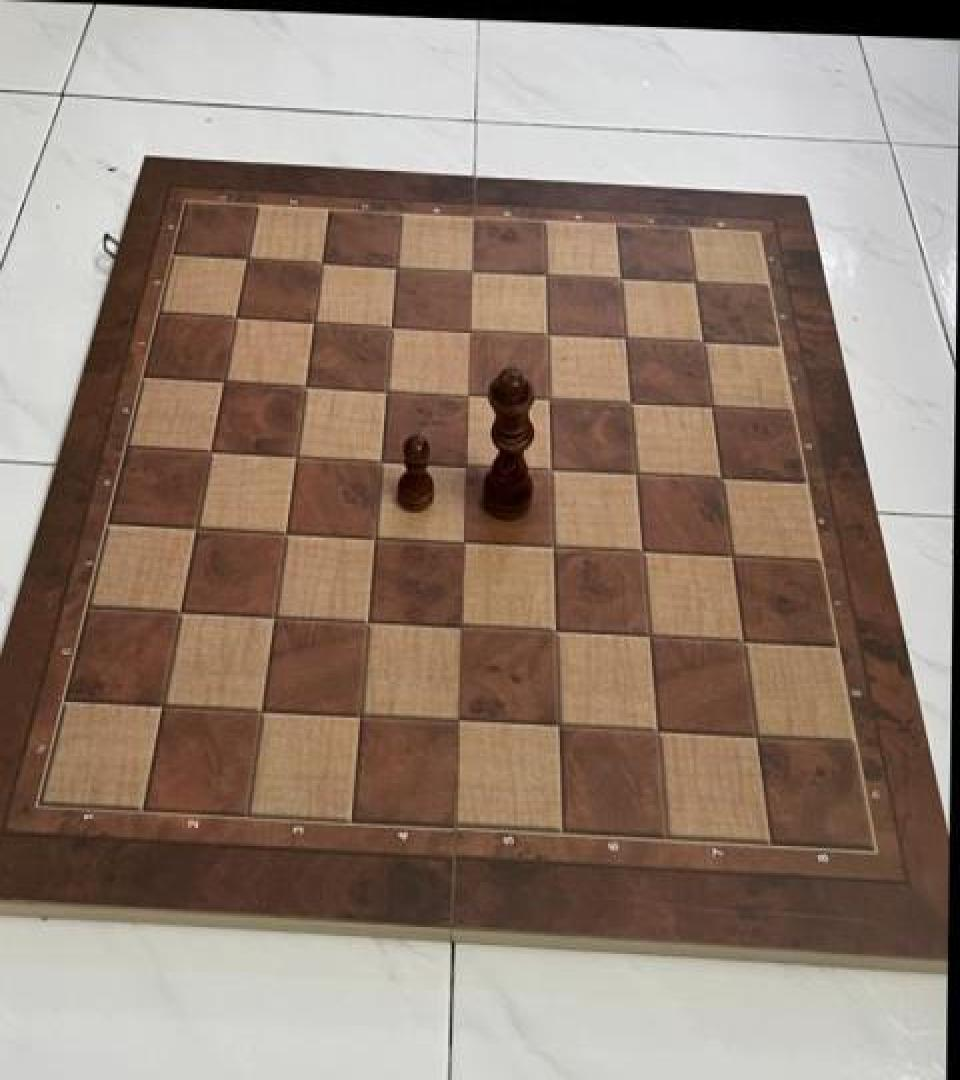xcorner: (528, 317, 562, 356), (372, 309, 406, 348), (677, 267, 711, 305), (602, 262, 636, 300), (527, 259, 561, 297), (452, 255, 486, 293), (377, 251, 411, 289), (302, 246, 336, 284), (227, 242, 261, 280), (685, 326, 719, 364), (606, 322, 640, 360), (450, 314, 484, 352), (294, 305, 328, 343), (216, 300, 250, 338), (693, 392, 727, 430), (611, 387, 645, 425), (530, 382, 564, 420), (448, 378, 482, 416), (367, 374, 401, 412), (286, 369, 320, 407), (204, 364, 238, 402), (702, 462, 736, 500), (617, 457, 651, 495), (532, 452, 566, 490), (446, 448, 480, 486), (361, 444, 395, 482), (276, 438, 310, 476), (191, 433, 225, 471), (712, 539, 746, 577), (623, 534, 657, 572), (534, 530, 568, 568), (444, 524, 478, 562), (355, 520, 389, 558), (266, 514, 300, 552), (177, 510, 211, 548), (724, 624, 758, 662), (630, 620, 664, 658), (536, 614, 570, 652), (442, 609, 476, 647), (348, 604, 382, 642), (254, 598, 288, 636), (161, 593, 195, 631), (736, 719, 770, 757), (637, 714, 671, 752), (538, 708, 572, 746), (439, 702, 473, 740), (340, 696, 374, 734), (242, 691, 276, 729), (143, 685, 177, 723)
